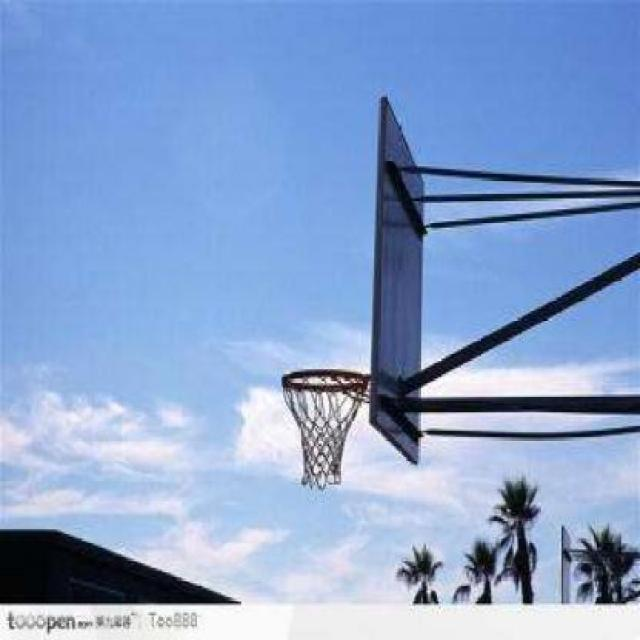rim: (280, 366, 368, 492)
